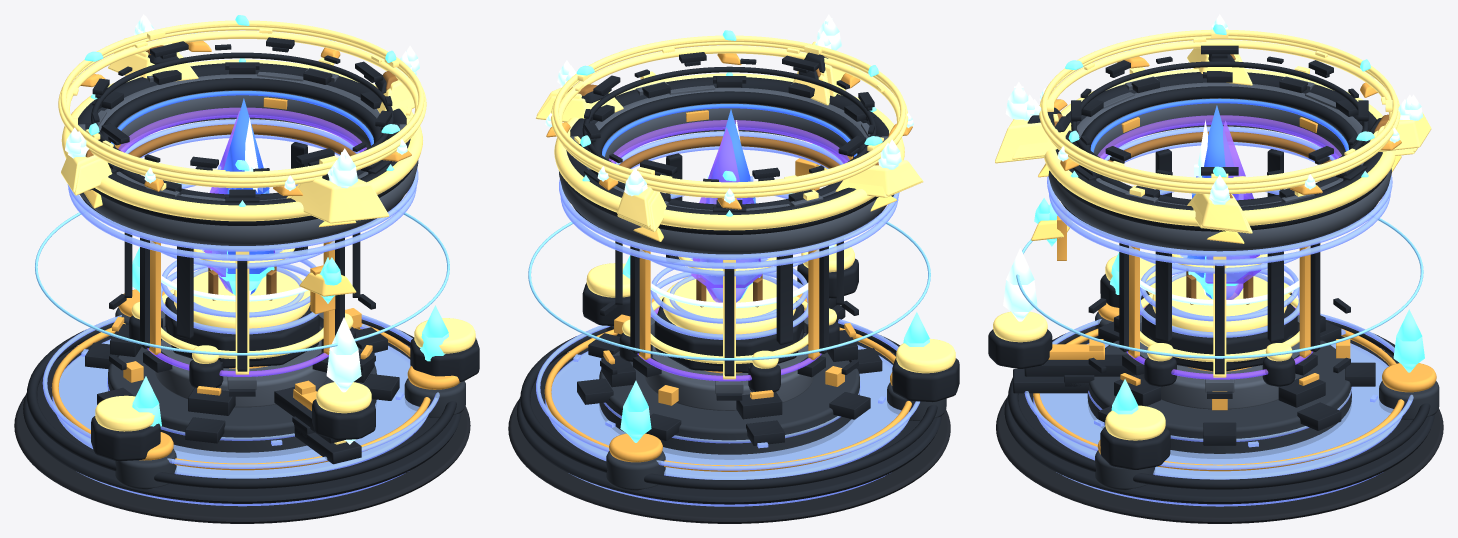
File: control_pipeline_smoke_v39_prepared.fbx
3 renders of one model, left to right at view 1: azimuth 30°, elevation 25°; view 2: azimuth 150°, elevation 25°; view 3: azimuth 270°, elevation 25°, orthographic. The views are drawn at different scales.
Visible parts, largest first — view 1: Control_TopRing_DarkOuterBody, Control_ContactShadow, Control_SpriteScaleUnify_GlowingBlueFloorDisc, Control_FieldDarkOuterRim, Control_MainBase_DarkSlate, Control_MobileFinishTrim_DeepOuterBaseShadow, Control_FortressRing_BroadGoldOuterBand, Control_PaintedDepthRefit_BlackInnerRingCut, Control_FortressRing_HeavyDarkUpperBand, Control_PaintedDepthRefit_HotGoldTopPaintStroke, Control_WarmGoldGrade_TopGoldConfirmEdge, Control_RingGemPolish_PaintedGoldOuterStroke (+55 smaller); view 2: Control_TopRing_DarkOuterBody, Control_SpriteScaleUnify_GlowingBlueFloorDisc, Control_MainBase_DarkSlate, Control_ContactShadow, Control_FieldDarkOuterRim, Control_FortressRing_BroadGoldOuterBand, Control_MobileFinishTrim_DeepOuterBaseShadow, Control_FortressRing_HeavyDarkUpperBand, Control_PaintedDepthRefit_BlackInnerRingCut, Control_PaintedDepthRefit_HotGoldTopPaintStroke, Control_WarmGoldGrade_TopGoldConfirmEdge, Control_BaseInner_RaisedPlate (+54 smaller); view 3: Control_TopRing_DarkOuterBody, Control_ContactShadow, Control_SpriteScaleUnify_GlowingBlueFloorDisc, Control_MainBase_DarkSlate, Control_FieldDarkOuterRim, Control_FortressRing_BroadGoldOuterBand, Control_MobileFinishTrim_DeepOuterBaseShadow, Control_FortressRing_HeavyDarkUpperBand, Control_PaintedDepthRefit_BlackInnerRingCut, Control_PaintedDepthRefit_HotGoldTopPaintStroke, Control_WarmGoldGrade_TopGoldConfirmEdge, Control_RingGemPolish_PaintedGoldOuterStroke (+59 smaller).
Part boxes in pixels (x1,y1,x2,y2): Control_TopRing_DarkOuterBody: (79,74,418,245); Control_ContactShadow: (14,395,470,523); Control_SpriteScaleUnify_GlowingBlueFloorDisc: (52,339,428,478); Control_FieldDarkOuterRim: (23,328,461,503); Control_MainBase_DarkSlate: (108,326,376,457); Control_MobileFinishTrim_DeepOuterBaseShadow: (26,319,456,488); Control_FortressRing_BroadGoldOuterBand: (61,59,422,221); Control_PaintedDepthRefit_BlackInnerRingCut: (98,78,385,200); Control_FortressRing_HeavyDarkUpperBand: (78,63,413,225); Control_PaintedDepthRefit_HotGoldTopPaintStroke: (66,31,418,188); Control_WarmGoldGrade_TopGoldConfirmEdge: (60,20,424,175); Control_RingGemPolish_PaintedGoldOuterStroke: (58,27,426,183); Control_TopRing_DarkOuterBody: (559,87,893,254); Control_SpriteScaleUnify_GlowingBlueFloorDisc: (545,344,909,479); Control_MainBase_DarkSlate: (599,332,859,459); Control_ContactShadow: (508,400,950,523); Control_FieldDarkOuterRim: (517,341,941,504); Control_FortressRing_BroadGoldOuterBand: (554,73,904,230); Control_MobileFinishTrim_DeepOuterBaseShadow: (520,323,937,489); Control_FortressRing_HeavyDarkUpperBand: (563,77,888,234); Control_PaintedDepthRefit_BlackInnerRingCut: (590,91,868,209); Control_PaintedDepthRefit_HotGoldTopPaintStroke: (559,45,900,198); Control_WarmGoldGrade_TopGoldConfirmEdge: (553,35,905,186); Control_BaseInner_RaisedPlate: (644,336,814,410); Control_TopRing_DarkOuterBody: (1048,82,1391,251); Control_ContactShadow: (996,398,1443,523); Control_SpriteScaleUnify_GlowingBlueFloorDisc: (1033,343,1402,479); Control_MainBase_DarkSlate: (1087,340,1351,458); Control_FieldDarkOuterRim: (1004,336,1434,504); Control_FortressRing_BroadGoldOuterBand: (1044,68,1395,226); Control_MobileFinishTrim_DeepOuterBaseShadow: (1008,319,1430,489); Control_FortressRing_HeavyDarkUpperBand: (1051,72,1387,231); Control_PaintedDepthRefit_BlackInnerRingCut: (1078,86,1360,205); Control_PaintedDepthRefit_HotGoldTopPaintStroke: (1048,40,1391,194); Control_WarmGoldGrade_TopGoldConfirmEdge: (1041,29,1398,182); Control_RingGemPolish_PaintedGoldOuterStroke: (1039,36,1400,189).
Size of the model in its own units: 137 by 118 by 139.
